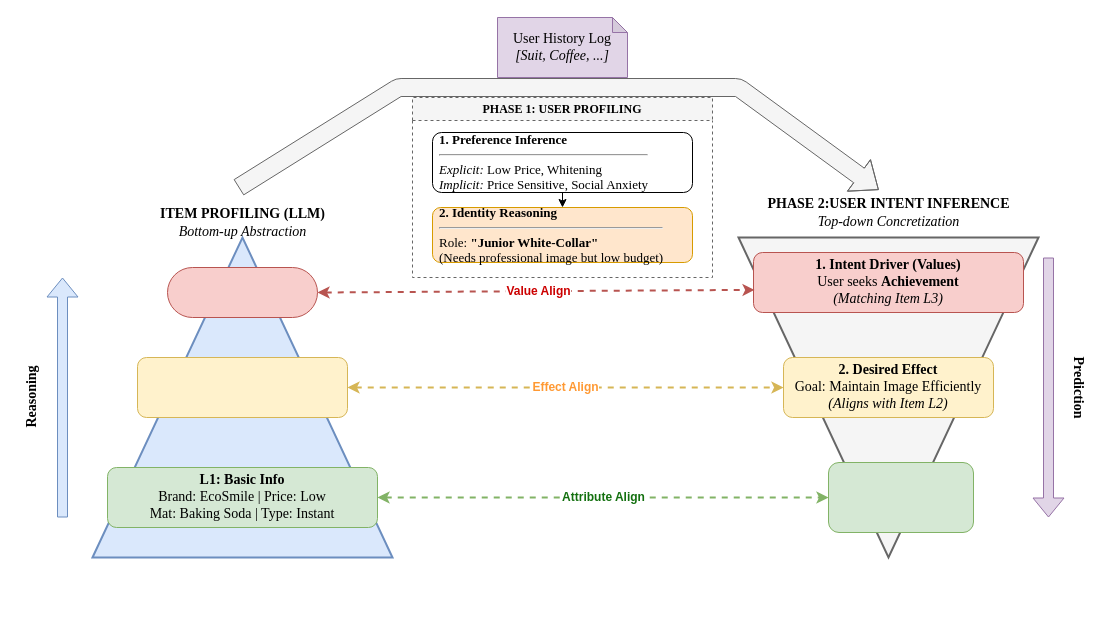
Image size: 1110x635. Some labels were removed from this diagram. Here are the shapes that lost their labels. From the top down, the centre of each, then its label:
pixel 242 292: L3: Schwartz Values Achievement (Success) Security (Hygiene)
pixel 242 387: L2: Function & Scenario Whitening / Social Confidence Scenario: Office/Meeting
pixel 901 497: 3. Concrete Requirements Portable, Fast, Low Cost (Constraints for Item L1)
